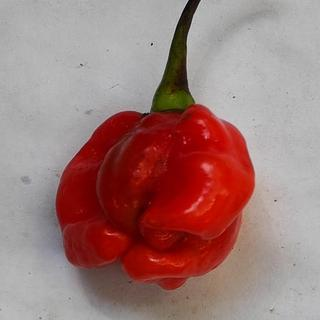Grade-B: (43, 102, 265, 293)
